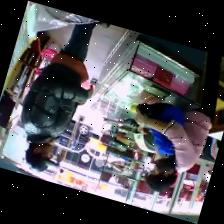person: (21, 21, 110, 171), (136, 52, 222, 190), (137, 102, 184, 124)
